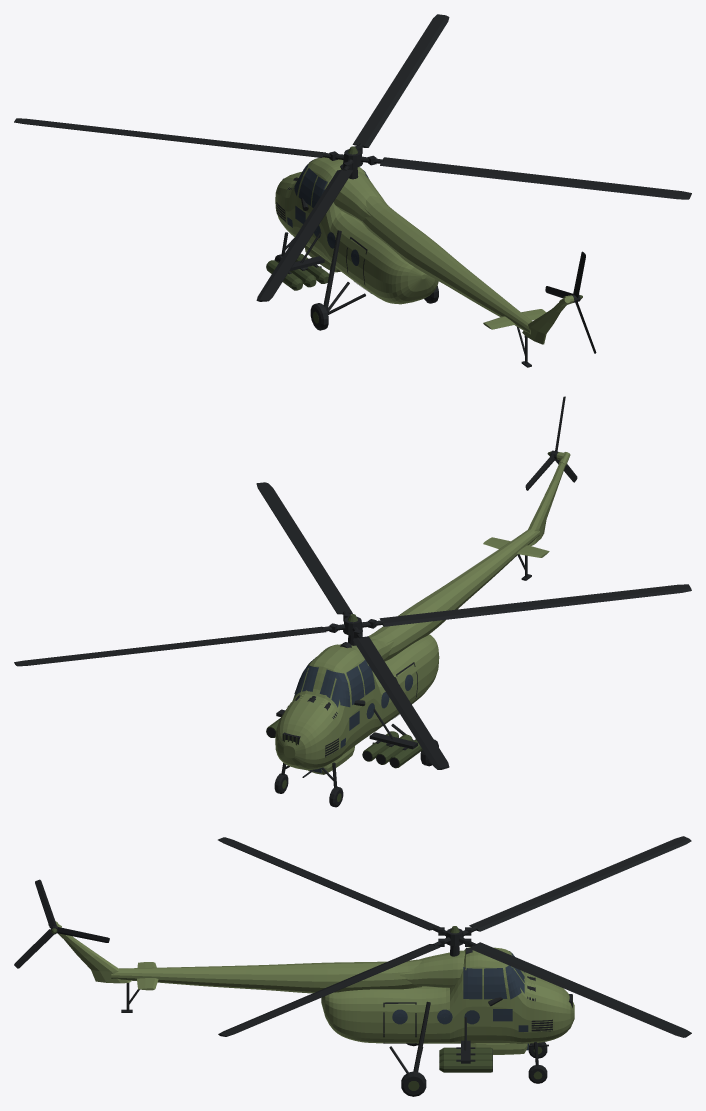
3 views of the same model, one above another, from view 1: azimuth 30°, elevation 25°; view 2: azimuth 150°, elevation 25°; view 3: azimuth 270°, elevation 25° (orthographic). The views are drawn at different scales.
Visible parts, largest first — view 1: Main Rotor, Fuselage, Tail Boom, Landing Gear, Transmission Fairing, Cockpit Glass, Rocket Pods, Tail Pylon, Tail Rotor, Details; view 2: Main Rotor, Fuselage, Tail Boom, Cockpit Glass, Rocket Pods, Tail Pylon, Landing Gear, Details, Tail Rotor; view 3: Fuselage, Main Rotor, Tail Boom, Cockpit Glass, Transmission Fairing, Landing Gear, Rocket Pods, Tail Rotor, Tail Pylon, Details, Gondola.
Boxes of the visible parts, left/top/right/bottom form: Main Rotor: left=14, top=14, right=691, bottom=301; Fuselage: left=275, top=157, right=438, bottom=304; Tail Boom: left=362, top=196, right=532, bottom=334; Landing Gear: left=274, top=230, right=438, bottom=330; Transmission Fairing: left=333, top=171, right=388, bottom=222; Cockpit Glass: left=287, top=160, right=369, bottom=265; Rocket Pods: left=266, top=254, right=329, bottom=290; Tail Pylon: left=522, top=303, right=566, bottom=344; Tail Rotor: left=545, top=251, right=596, bottom=353; Details: left=289, top=164, right=371, bottom=293; Main Rotor: left=14, top=482, right=691, bottom=769; Fuselage: left=275, top=634, right=439, bottom=770; Tail Boom: left=368, top=529, right=540, bottom=661; Cockpit Glass: left=294, top=657, right=413, bottom=772; Rocket Pods: left=266, top=718, right=422, bottom=768; Tail Pylon: left=528, top=462, right=565, bottom=545; Landing Gear: left=274, top=677, right=438, bottom=807; Details: left=276, top=642, right=417, bottom=777; Tail Rotor: left=525, top=396, right=577, bottom=490; Fuselage: left=321, top=947, right=574, bottom=1043; Main Rotor: left=218, top=836, right=691, bottom=1037; Tail Boom: left=111, top=959, right=421, bottom=993; Cockpit Glass: left=392, top=951, right=528, bottom=1050; Transmission Fairing: left=400, top=950, right=464, bottom=987; Landing Gear: left=389, top=1001, right=547, bottom=1096; Rocket Pods: left=439, top=1047, right=492, bottom=1072; Tail Rotor: left=14, top=879, right=109, bottom=968; Tail Pylon: left=58, top=933, right=131, bottom=983; Details: left=383, top=947, right=548, bottom=1063; Gondola: left=470, top=1043, right=530, bottom=1054.
Size of the model in its own units: 15.12 by 6.86 by 21.61.
